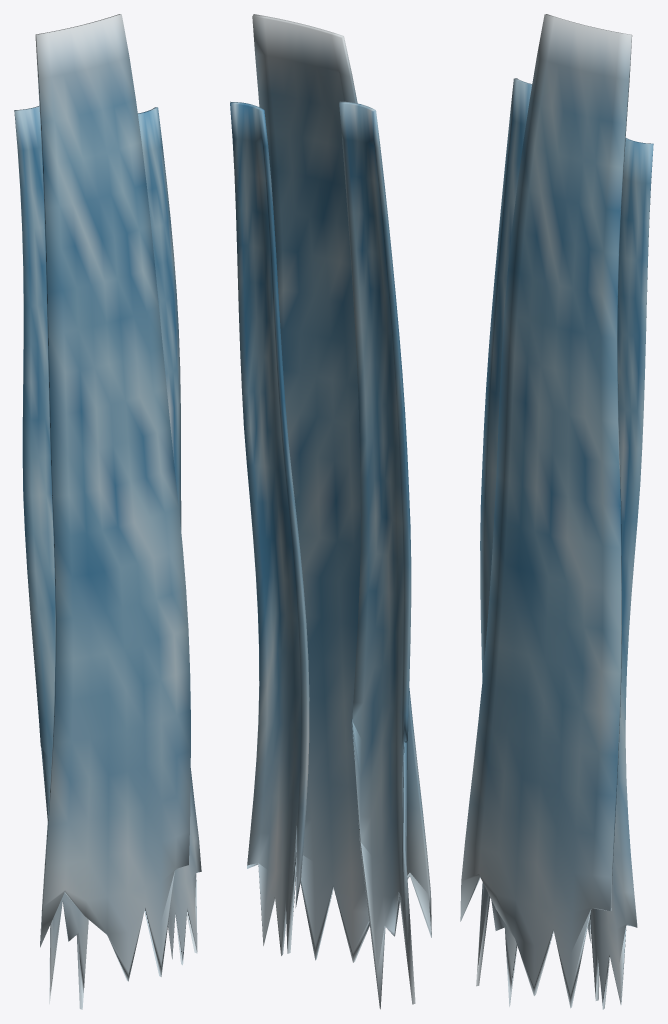
File: Falls.glb
The picture shows the model from 3 angles, left to right: view 1: azimuth 30°, elevation 25°; view 2: azimuth 150°, elevation 25°; view 3: azimuth 330°, elevation 25°; orthographic projection. The views are drawn at different scales.
Parts seen in each view (by area): view 1: Water; view 2: Water; view 3: Water.
Part boxes in pixels (x1,y1,x2,y2): Water: (14, 14, 201, 1009); Water: (230, 14, 431, 1009); Water: (460, 14, 653, 1009).
Size of the model in its own units: 12.96 by 69.89 by 7.08.
